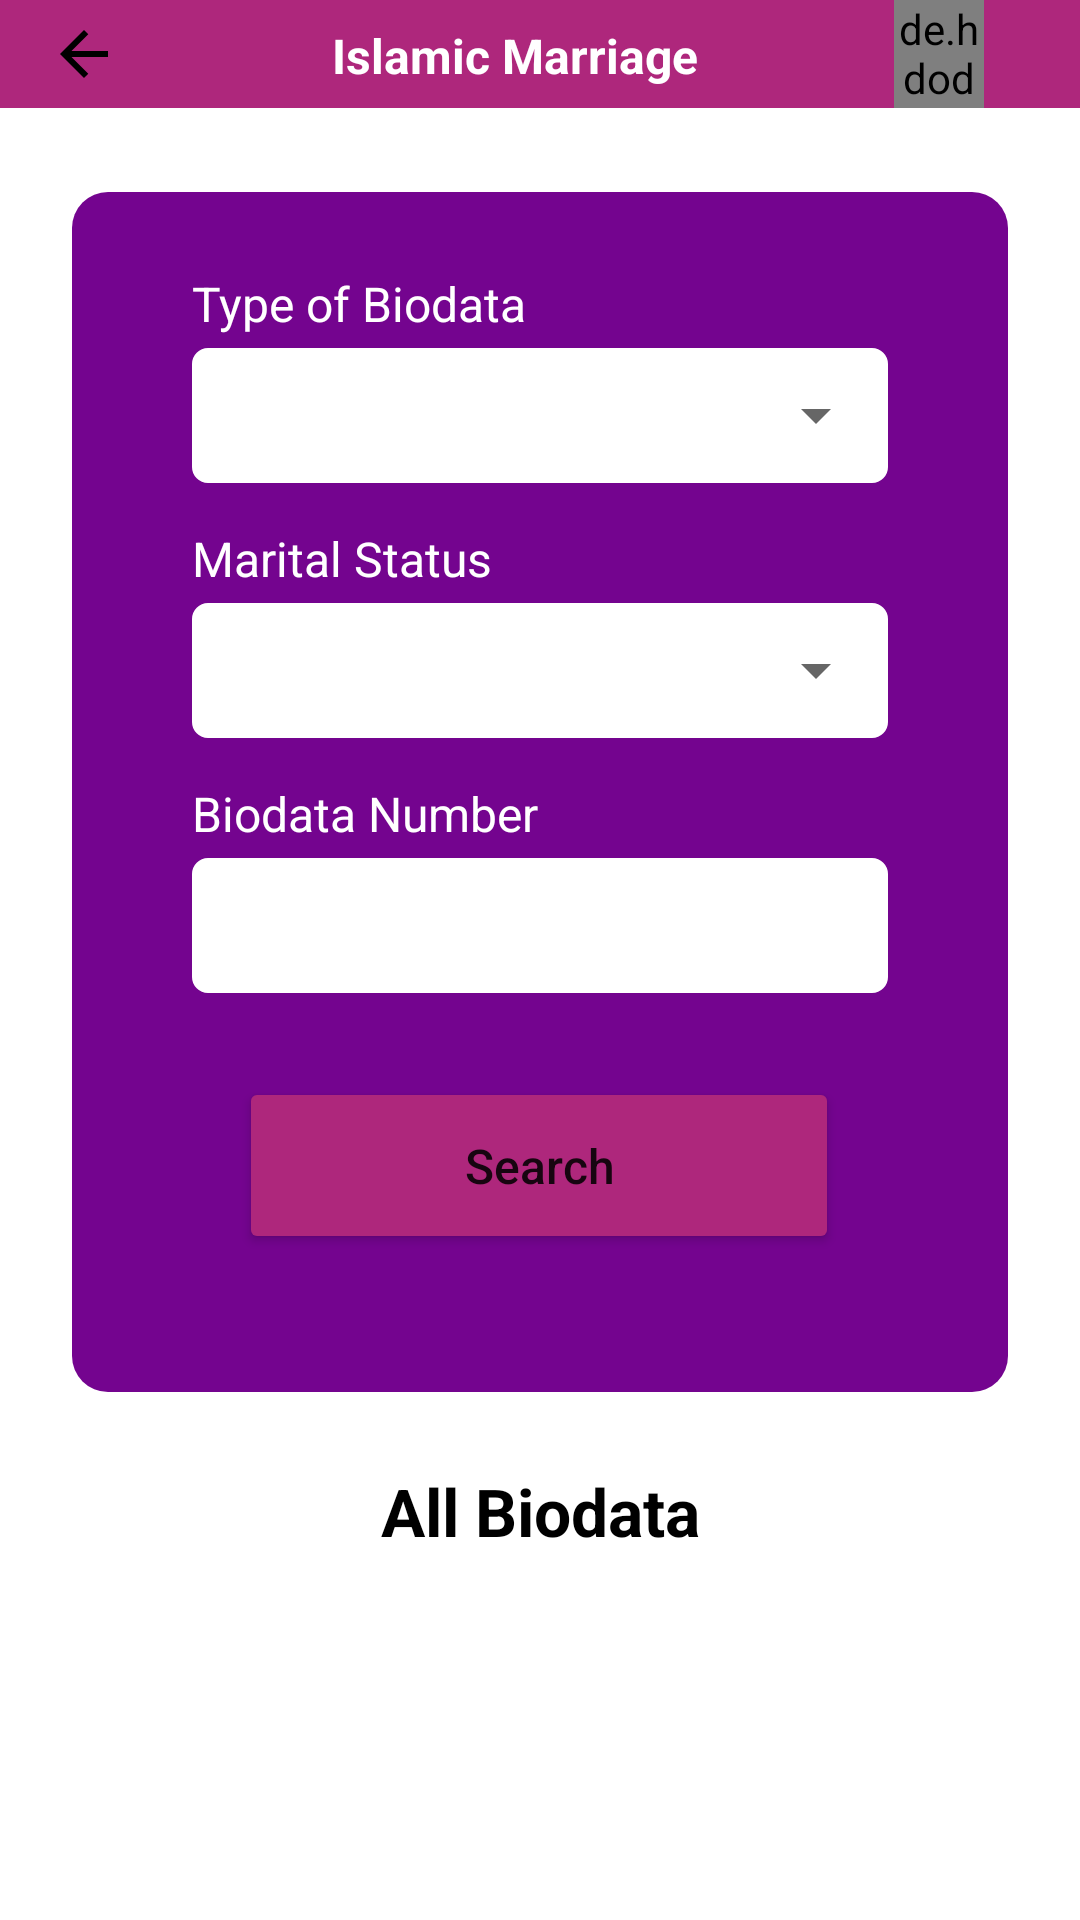

Icons on this 1080x1920 Android screen, each with its box as (x1, y1, x2, y2):
arro backs: (60, 30, 108, 78)
